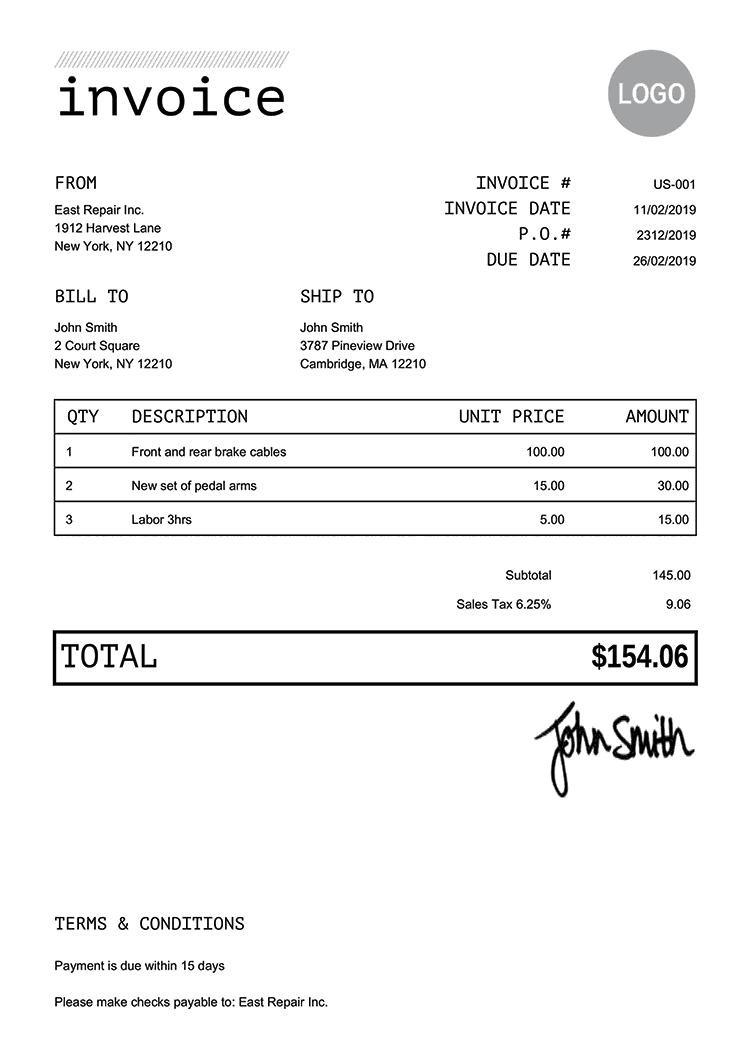ROI: (56, 398, 697, 533), (57, 560, 696, 677), (436, 161, 722, 276), (44, 948, 360, 1016), (42, 162, 195, 267), (43, 280, 196, 378)
